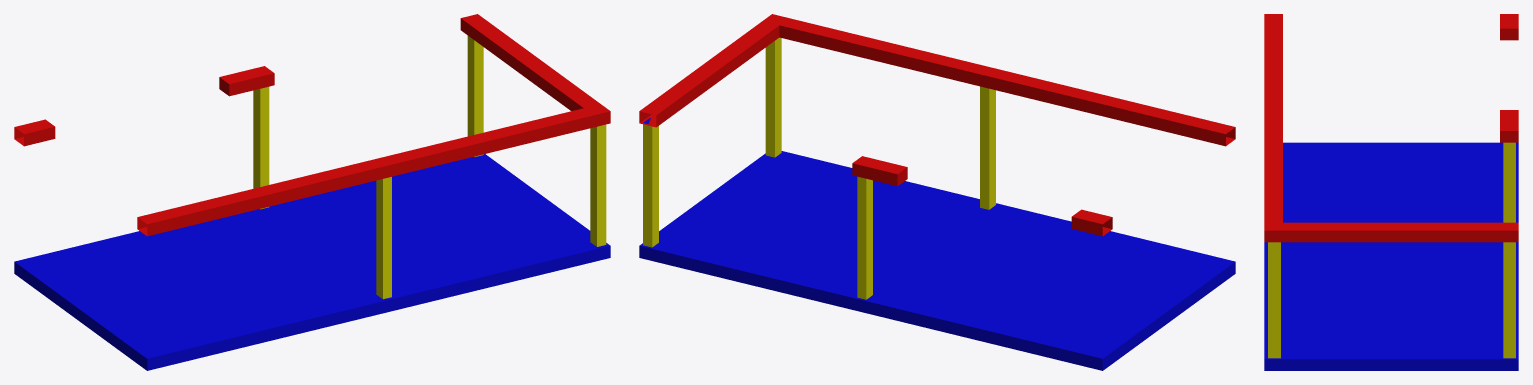
File: SM0036_Scifi_HangarPlatform_InteriorCap_01.fbx
3 renders of one model, left to right at view 1: azimuth 30°, elevation 25°; view 2: azimuth 150°, elevation 25°; view 3: azimuth 270°, elevation 25°, orthographic. The views are drawn at different scales.
Parts seen in each view (by area): view 1: SM0036_Scifi_HangarPlatform_InteriorCap_01; view 2: SM0036_Scifi_HangarPlatform_InteriorCap_01; view 3: SM0036_Scifi_HangarPlatform_InteriorCap_01.
Part boxes in pixels (left/top/right/bottom): SM0036_Scifi_HangarPlatform_InteriorCap_01: left=14, top=14, right=610, bottom=370; SM0036_Scifi_HangarPlatform_InteriorCap_01: left=639, top=14, right=1235, bottom=370; SM0036_Scifi_HangarPlatform_InteriorCap_01: left=1264, top=14, right=1518, bottom=370.
Size of the model in its own units: 400 by 121 by 199.
